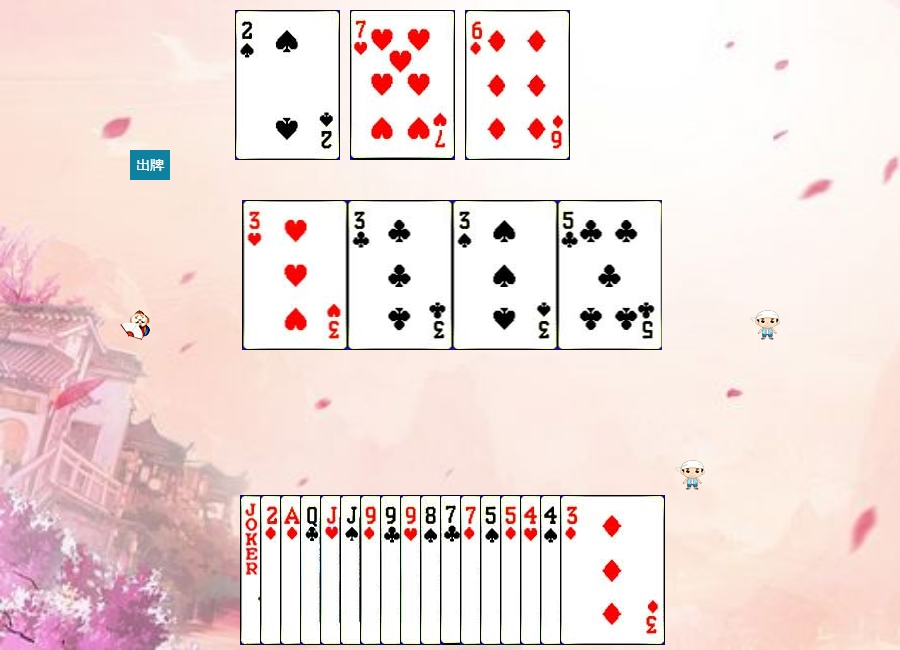11~3: (320, 495, 425, 645)
11~4: (340, 495, 445, 645)
12~2: (300, 495, 405, 645)
14~1: (280, 495, 385, 645)
15~1: (260, 495, 365, 645)
15~4: (235, 10, 340, 160)
18~4: (240, 495, 345, 645)
3~1: (560, 495, 665, 645)
3~2: (348, 200, 453, 350)
3~3: (243, 200, 348, 350)
3~4: (453, 200, 558, 350)
4~3: (520, 495, 625, 645)
4~4: (540, 495, 645, 645)
5~1: (500, 495, 605, 645)
5~2: (558, 200, 663, 350)
5~4: (480, 495, 585, 645)
6~1: (465, 10, 570, 160)
7~1: (460, 495, 565, 645)
7~2: (440, 495, 545, 645)
7~3: (350, 10, 455, 160)
8~4: (420, 495, 525, 645)
9~1: (360, 495, 465, 645)
9~2: (380, 495, 485, 645)
9~3: (400, 495, 505, 645)
